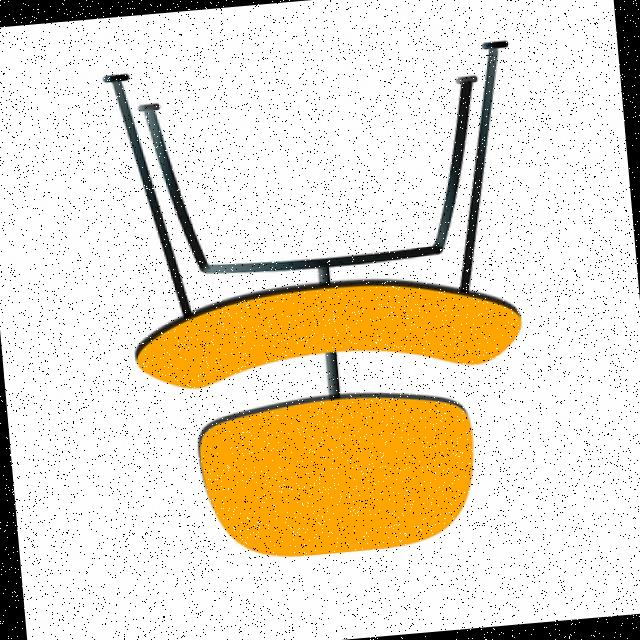Chair: (48, 3, 590, 608)
